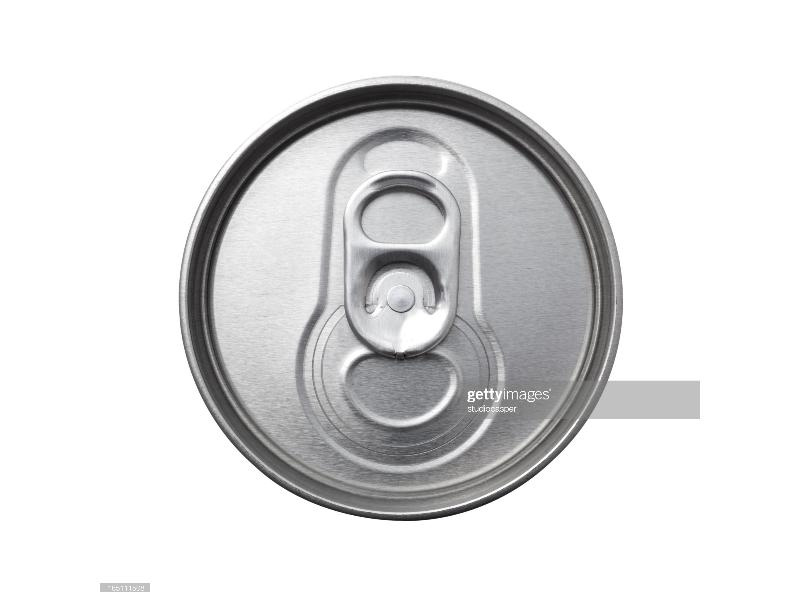can: (171, 62, 633, 524)
